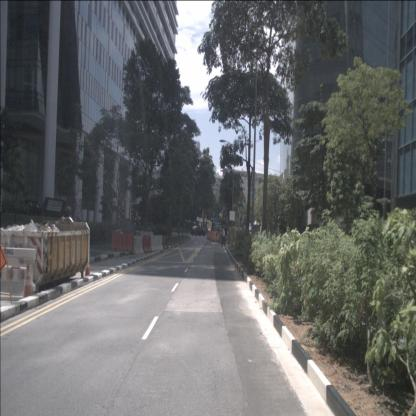human-pedestrian-adult: (222, 226, 226, 247), (225, 225, 227, 241)
movable_object-barrier: (110, 230, 134, 252), (134, 230, 154, 252), (151, 235, 163, 252), (134, 236, 144, 255), (142, 236, 152, 253)
movable_object-trafficcone: (23, 262, 32, 306), (84, 253, 90, 278)
vehicle-car: (190, 226, 206, 236)
